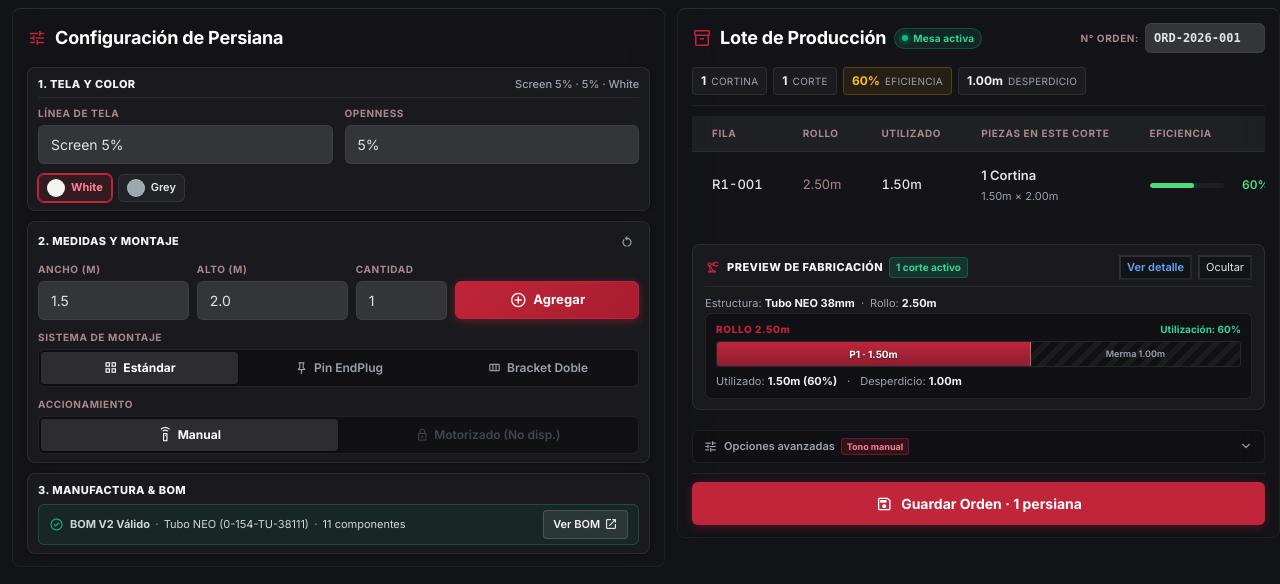
Test: Production Focus Mode — Rebalanced Layout & Manufacturing Preview Tests › 15. Permite plegar y desplegar el Preview de Fabricación
The width and height of the screenshot is (1280, 584).
Click the button "Ocultar" at (1225, 267), box [1198, 255, 1252, 280]
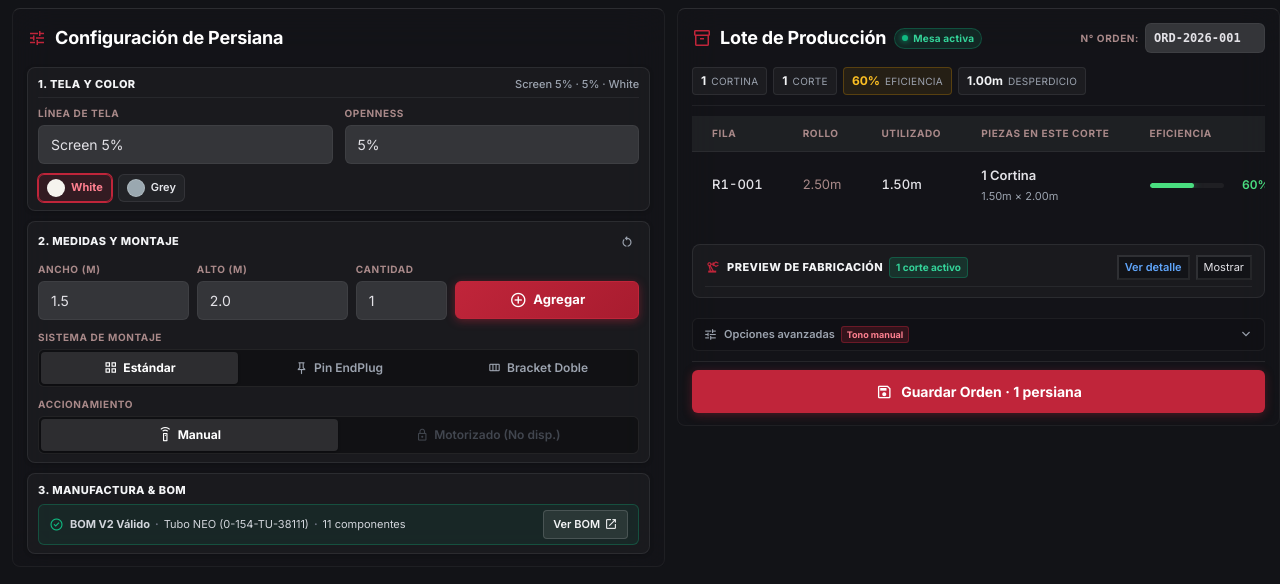
Check: the text "P1 · 1.50m" is gone
Check: the button "Mostrar" is shown
Click the button "Mostrar" at (1224, 267), box [1196, 255, 1252, 280]
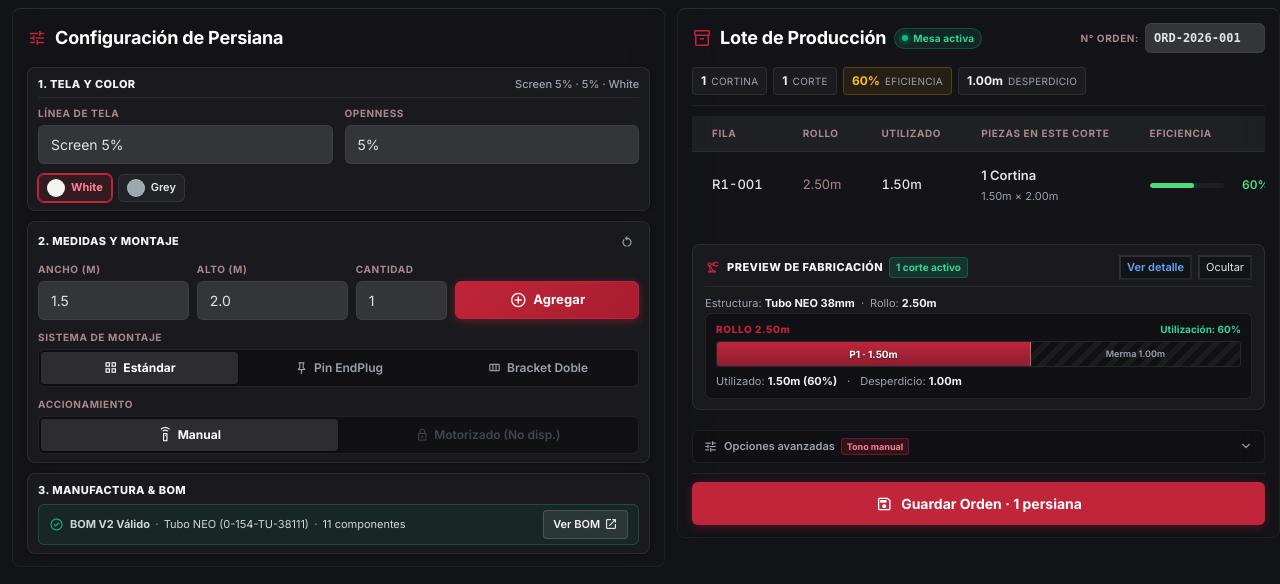
Check: the text "P1 · 1.50m" is shown, box [849, 346, 898, 362]
